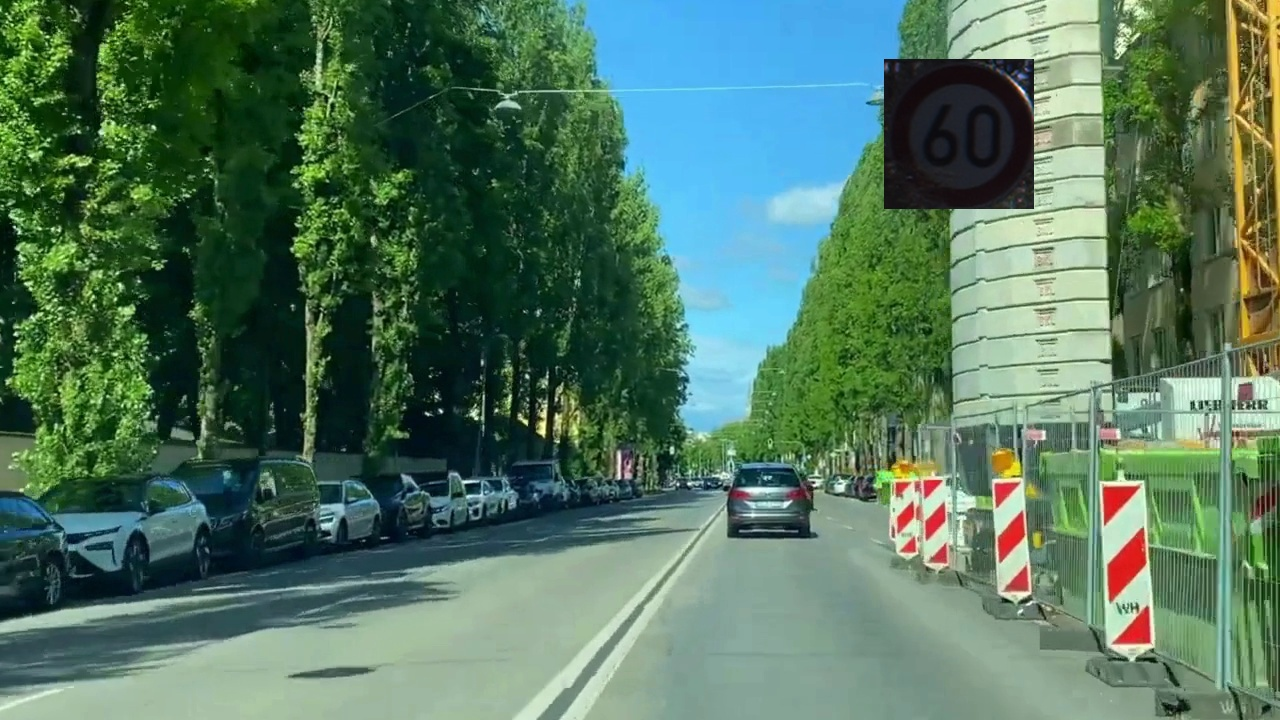Speed 60: (884, 59, 1034, 209)
